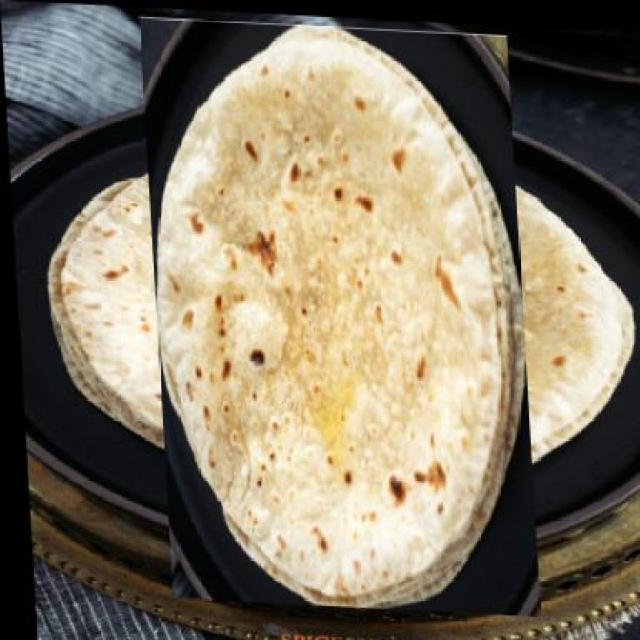chapati: (88, 67, 587, 562)
